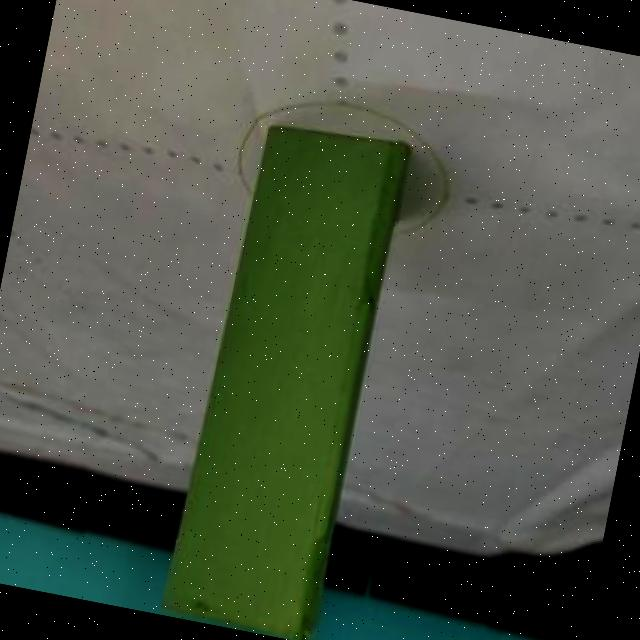greenbox: (163, 119, 413, 640)
